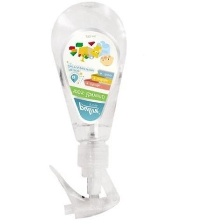cleaning_solution: (46, 0, 128, 222)
